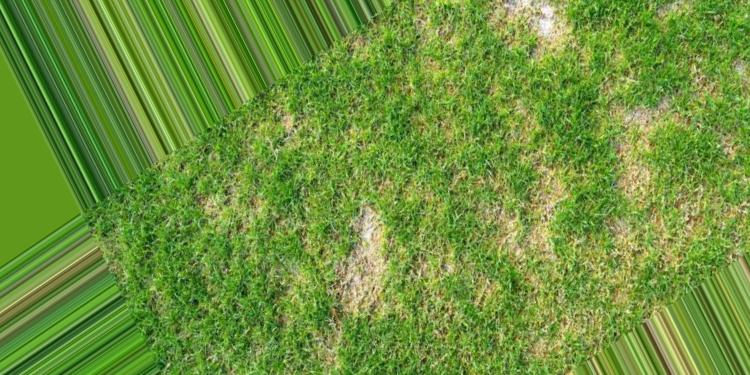patch: (591, 140, 665, 284), (662, 109, 734, 250), (511, 205, 574, 331), (338, 215, 379, 298), (513, 6, 562, 36)
